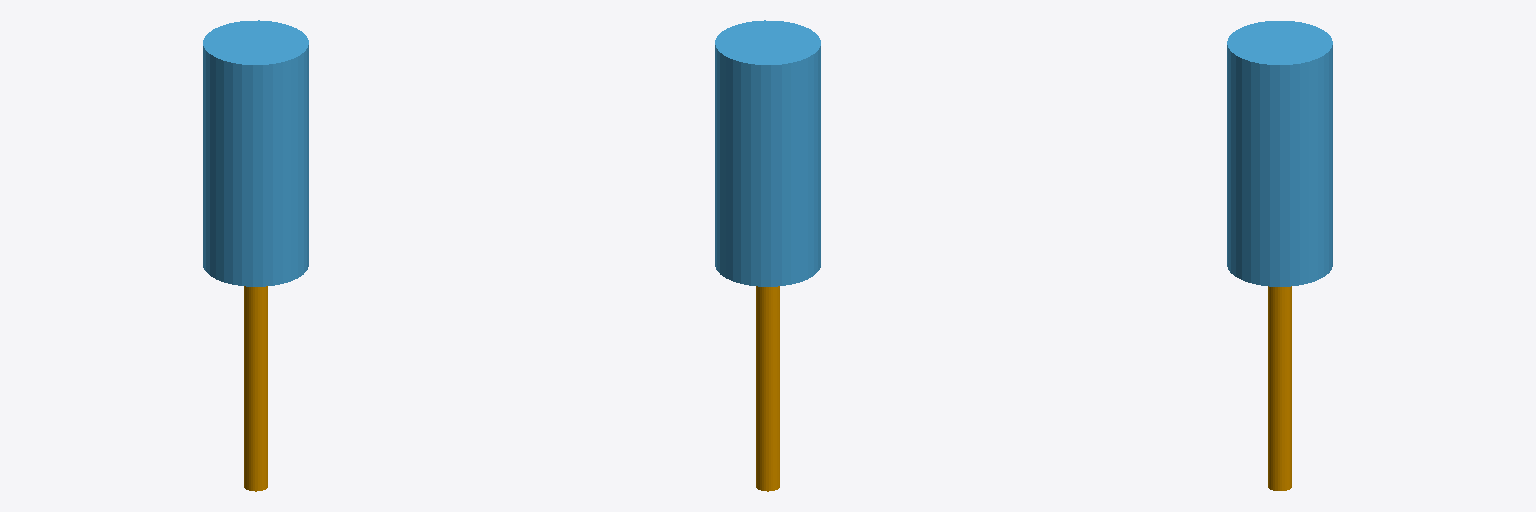
The robot description file, URDF, robot "screwdriver_on_the_table":
<?xml version="1.0" ?>
<!-- this is the one without any virtual joints and links -->
<robot name="screwdriver_on_the_table">
<link name="screwdriver_stick">
    <inertial>
      <mass value="0.05"/>
      <!-- <friction value="1.0"/> -->
      <inertia ixx="0.000041979" ixy="0.0" ixz="0.0" iyy="0.000041979" iyz="0.0" izz="0.000000625"/>
    </inertial>
    <visual>
        <origin rpy="0 0 0" xyz="0 0 0.05"/>
        <geometry>
            <cylinder radius="0.005" length="0.1"/>
        </geometry>
        <!-- <material name="White">
	 	    <color rgba="0.9 0.9 0.9 0.5"/>
        </material> -->
    </visual>
    <collision>
        <origin rpy="0 0 0" xyz="0 0 0.05"/>
        <geometry>
            <cylinder radius="0.005" length="0.1"/>
        </geometry>
    </collision>
</link>

<gazebo reference="screwdriver_body">
    <mu1>1.215013</mu1>
    <mu2>0.947255</mu2>
    <!-- Isaac Sim maps mu1/mu2 to PhysX static/dynamic friction during URDF→USD import -->
</gazebo>

<joint name="screwdriver_stick_body_joint" type="fixed">
    <parent link="screwdriver_stick"/>
    <child link="screwdriver_body"/>
    <origin rpy="0 0 0" xyz="0 0 0.1"/> 
    <axis xyz="0 0 1"/>
</joint>

<link name="screwdriver_body">
    <inertial>
      <mass value="0.072926"/>
      <inertia ixx="0.000069340" ixy="0.0" ixz="0.0" iyy="0.000069340" iyz="0.0" izz="0.000017137"/>
    </inertial>
    <visual>
        <origin rpy="0 0 0" xyz="0 0 0.05"/>
        <geometry>
            <cylinder radius="0.021679" length="0.1"/>
        </geometry>
        <!-- <material name="Red1">
	 	    <color rgba="0.9 0. 0. 0.5"/>
        </material> -->
    </visual>
    <collision>
        <origin rpy="0 0 0" xyz="0 0 0.05"/>
        <geometry>
            <cylinder radius="0.021679" length="0.1"/>
        </geometry>
    </collision>
</link>

<!-- <joint name="screwdriver_body_cap_joint" type="revolute">
    <parent link="screwdriver_body"/>
    <child link="screwdriver_cap"/>
    <origin rpy="0 0 0" xyz="0 0 0.1"/> 
    <axis xyz="0 0 1"/>
</joint>

<link name="screwdriver_cap">
    <inertial>
      <mass value="0.005"/>
      <inertia ixx="0.00001" ixy="0.0" ixz="0.0" iyy="0.000005" iyz="0.0" izz="0.000005"/>
    </inertial>
    <visual>
        <origin rpy="0 0 0" xyz="0 0 0.0006"/>
        <geometry>
            <cylinder radius="0.02" length="0.001"/>
        </geometry>
        <material name="Yellow">
	 	    <color rgba="0.9 0.9 0. 1.0"/>
        </material>
    </visual>
    <collision>
        <origin rpy="0 0 0" xyz="0 0 0.0005"/>
        <geometry>
            <cylinder radius="0.02" length="0.001"/>
        </geometry>
    </collision>
</link> -->

</robot>

--- Render facts (derived) ---
Views: 3 orthographic renders of the robot side by side, from view 1: azimuth 30°, elevation 25°; view 2: azimuth 150°, elevation 25°; view 3: azimuth 270°, elevation 25°.
Robot: screwdriver_on_the_table — 2 links, 1 joints (1 fixed); root link screwdriver_stick; default pose: all joints at 0.
Links seen in each view (by area): view 1: screwdriver_body, screwdriver_stick; view 2: screwdriver_body, screwdriver_stick; view 3: screwdriver_body, screwdriver_stick.
Link boxes in pixels (x1,y1,x2,y2): screwdriver_body: (203, 20, 308, 286); screwdriver_stick: (244, 286, 267, 491); screwdriver_body: (715, 20, 820, 286); screwdriver_stick: (756, 286, 779, 491); screwdriver_body: (1227, 21, 1332, 286); screwdriver_stick: (1268, 286, 1291, 490).
Size in the robot's own frame: 0.0434 by 0.0434 by 0.2 metres.
Geometry: primitives only (box / cylinder / sphere), no mesh files.
